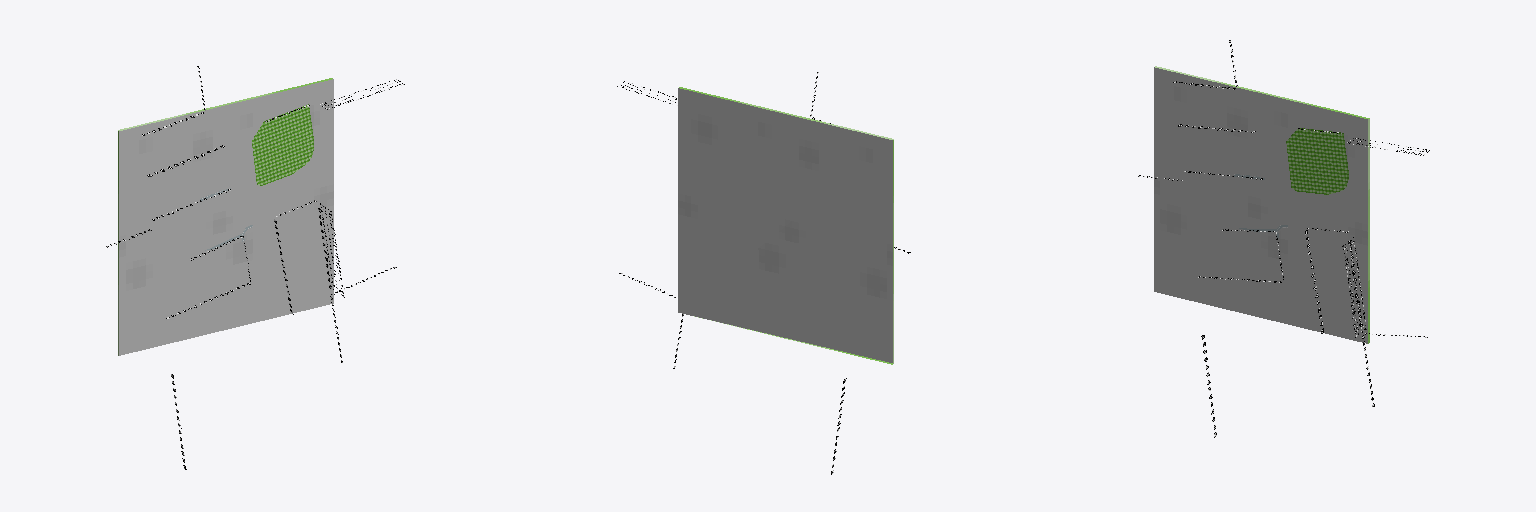
3 renders of one model, left to right at view 1: azimuth 30°, elevation 25°; view 2: azimuth 150°, elevation 25°; view 3: azimuth 330°, elevation 25°, orthographic.
Parts seen in each view (by area): view 1: POLYGON, FONT; view 2: POLYGON; view 3: POLYGON, FONT.
Part boxes in pixels (x1,y1,x2,y2): POLYGON: (118,78,333,355); FONT: (106,66,404,469); POLYGON: (678,87,893,364); POLYGON: (1154,66,1369,343); FONT: (1138,40,1429,437).
Size of the model in its own units: 835 by 1095 by 68.17.
4 materials, 4 textured.